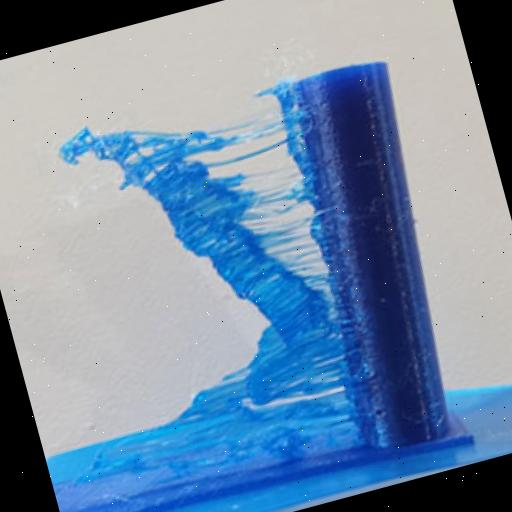stringing: (8, 73, 388, 472)
